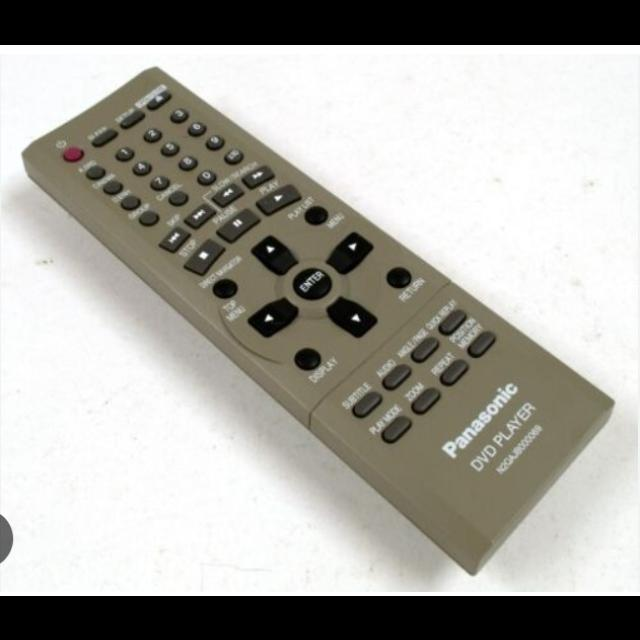TV-Remote-Control: (20, 65, 616, 576)
